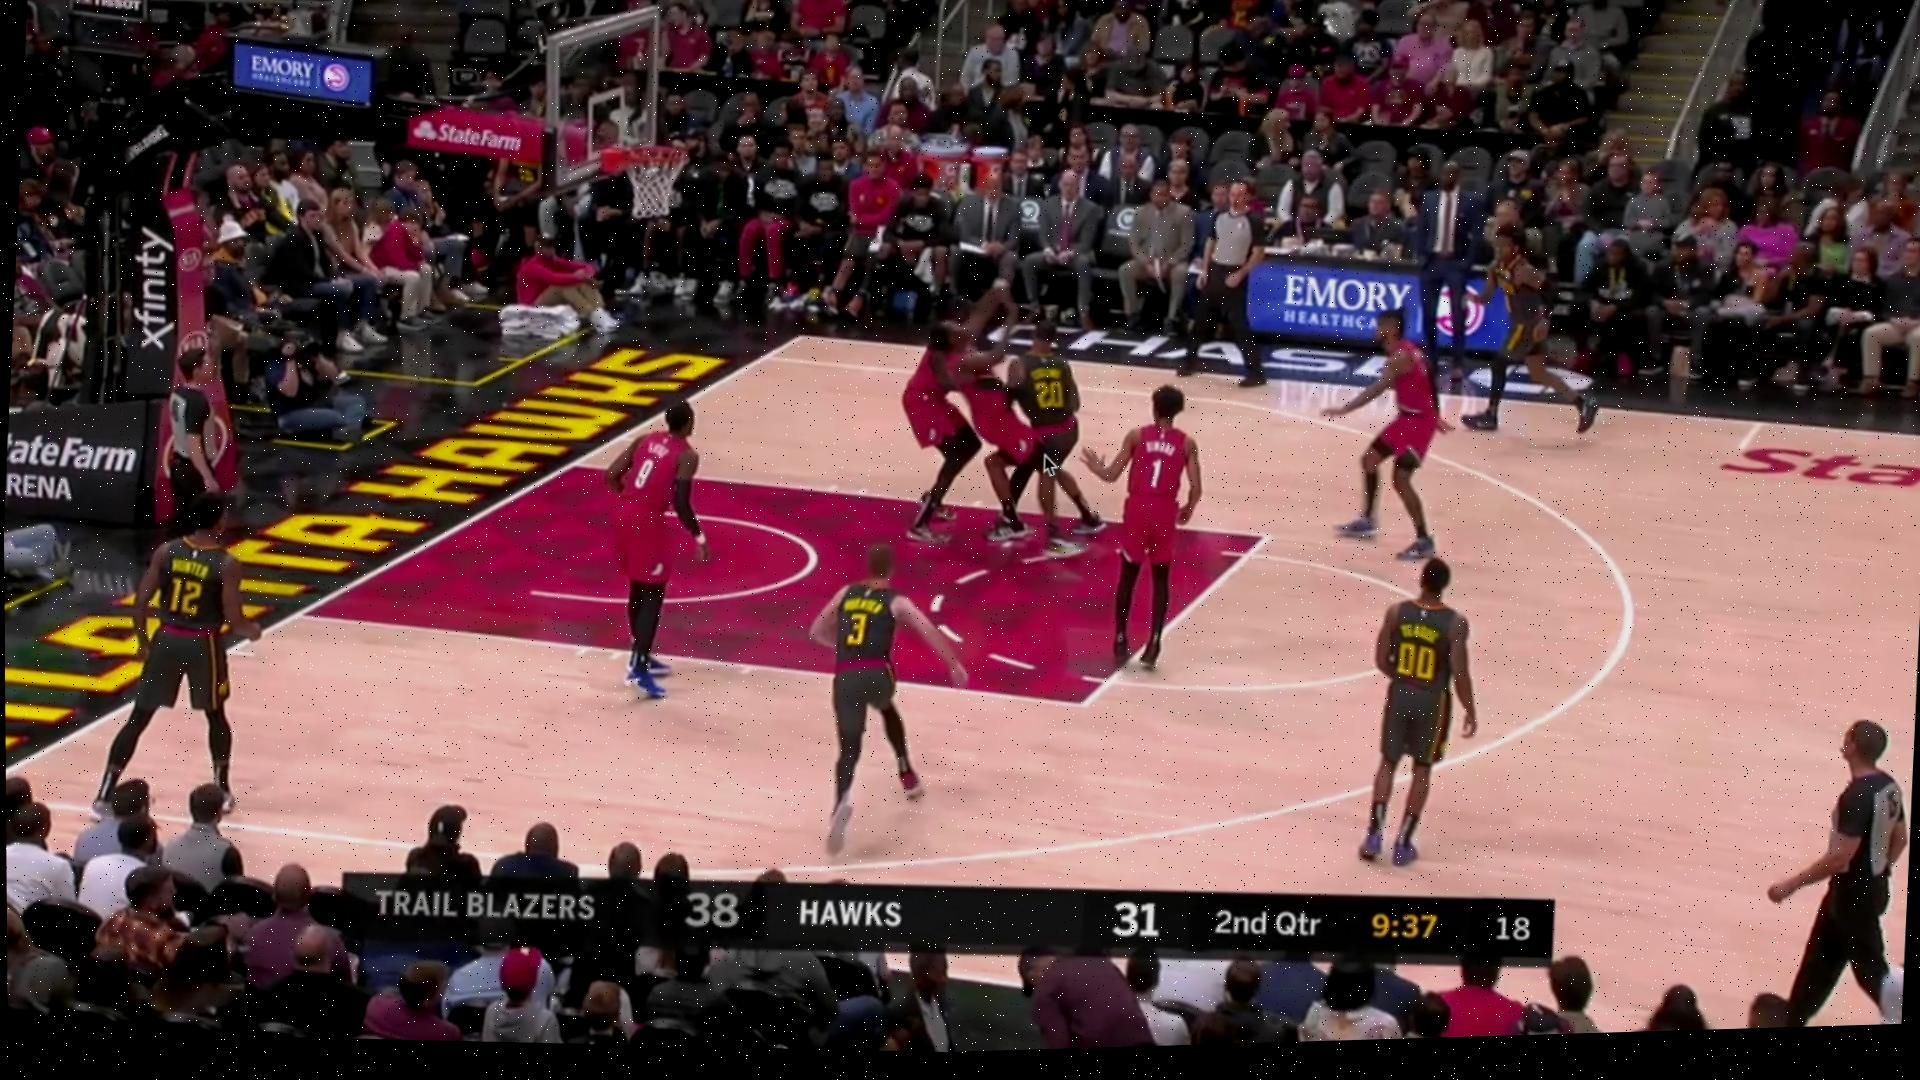foul: (923, 306, 1113, 562)
